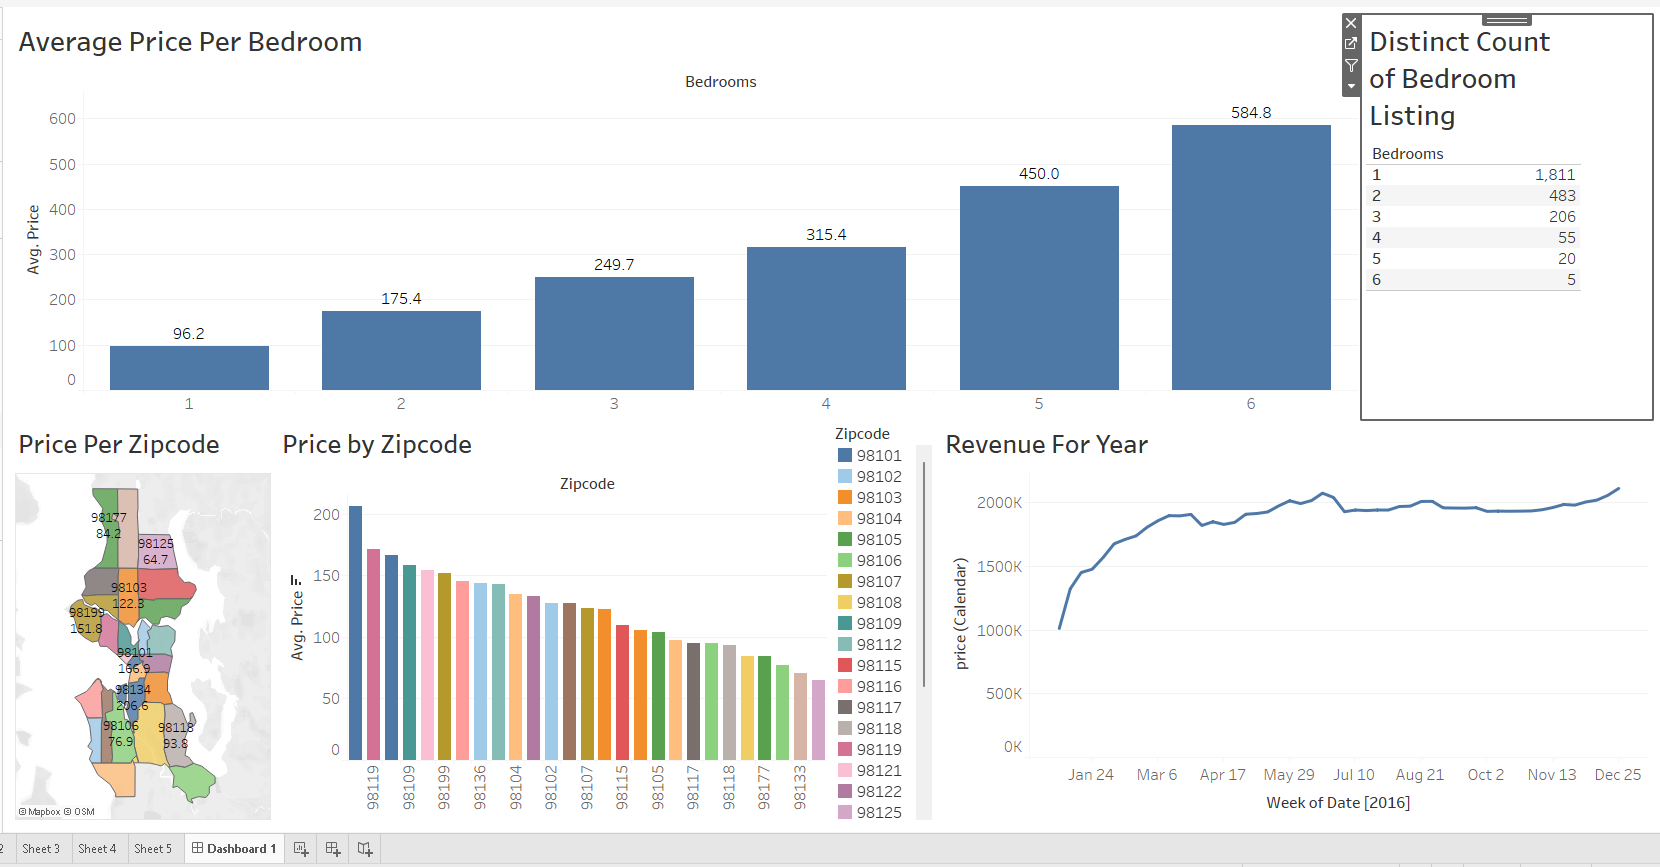

This screenshot's page, from the dashboard's own definition file:
{"tool":"tableau","page":{"name":"Dashboard 1","canvas":[1000,1000],"units":"permille","ordinal":0},"visuals":[{"type":"worksheet","title":"Sheet 4","mark":"Automatic","rows":["price"],"cols":["bedrooms"],"box":[4.8,9.7,815.3,490.3]},{"type":"worksheet","title":"Sheet 5","mark":"Automatic","rows":["bedrooms"],"box":[820.1,9.7,175,490.3]},{"type":"worksheet","title":"Sheet 2","mark":"Multipolygon","box":[4.8,500,159.3,490.3]},{"type":"worksheet","title":"Sheet 1","mark":"Automatic","rows":["price"],"cols":["zipcode"],"box":[164.1,500,335.6,490.3]},{"type":"legend","title":"Sheet 1","param":"[federated.1c57yam0n9nq9810xcbrd04u9cgf].[none:zipcode:ok]","box":[499.7,500,64.6,490.3]},{"type":"worksheet","title":"Sheet 3","mark":"Automatic","rows":["price (Calendar)"],"cols":["date"],"box":[564.3,500,430.9,490.3]}]}

Visuals, with their boxes on the dashboard's canvas, which has no fixed pixel size, in thousandths of its width and height (x1, y1, x2, y2). These are canvas units, not pixel positions in the 1660x867 screenshot, which may show the page scaled, cropped or inside an application window:
"Sheet 4" worksheet: {"left": 5, "top": 10, "right": 820, "bottom": 500}
"Sheet 5" worksheet: {"left": 820, "top": 10, "right": 995, "bottom": 500}
"Sheet 2" worksheet (Multipolygon marks): {"left": 5, "top": 500, "right": 164, "bottom": 990}
"Sheet 1" worksheet: {"left": 164, "top": 500, "right": 500, "bottom": 990}
"Sheet 1" legend: {"left": 500, "top": 500, "right": 564, "bottom": 990}
"Sheet 3" worksheet: {"left": 564, "top": 500, "right": 995, "bottom": 990}
